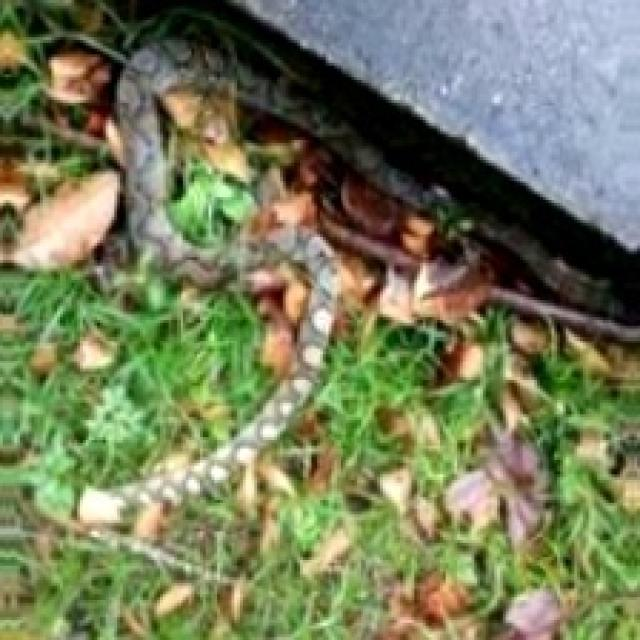reticulated python: (82, 0, 640, 527)
